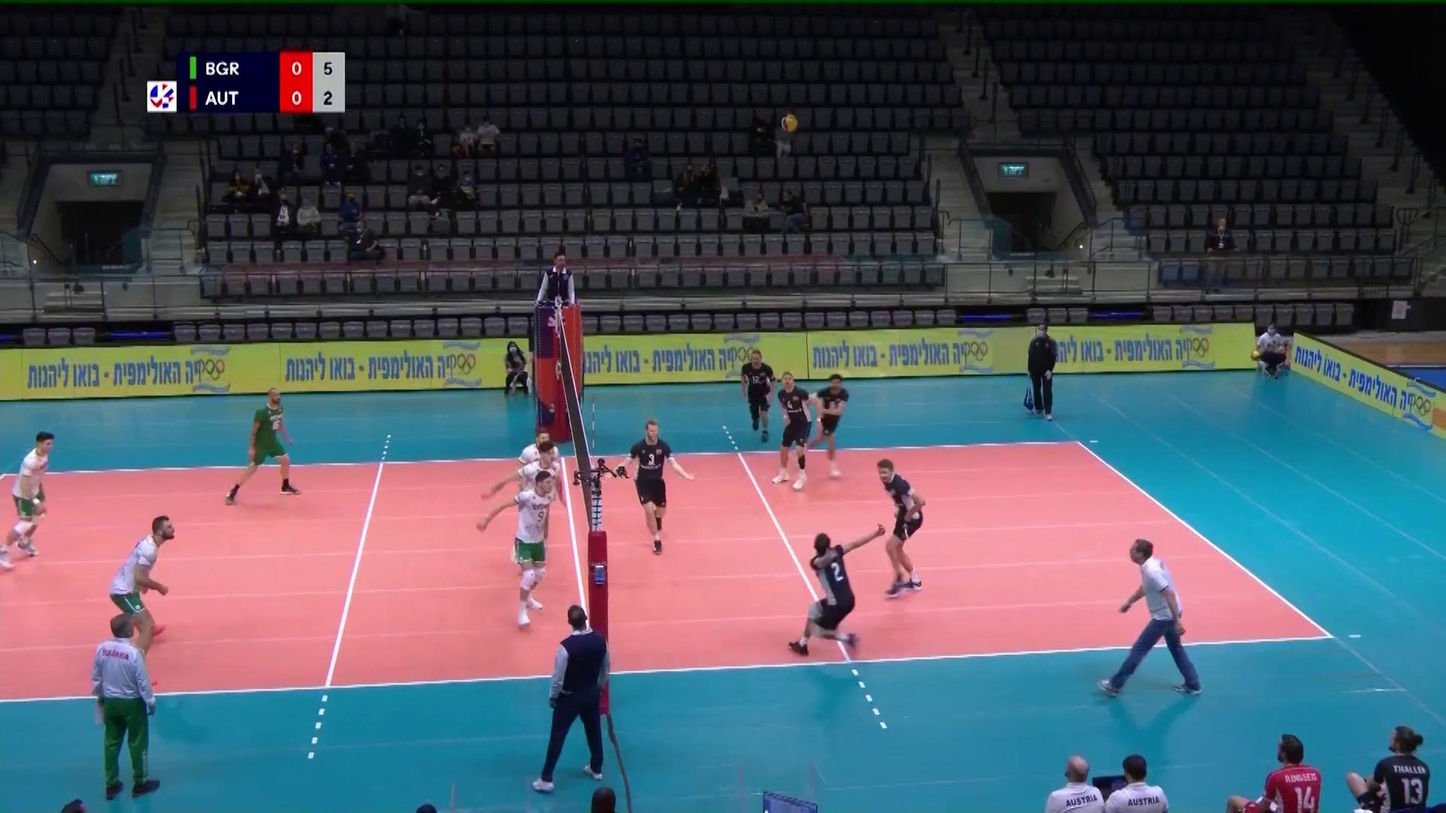ball: (781, 114, 798, 132)
